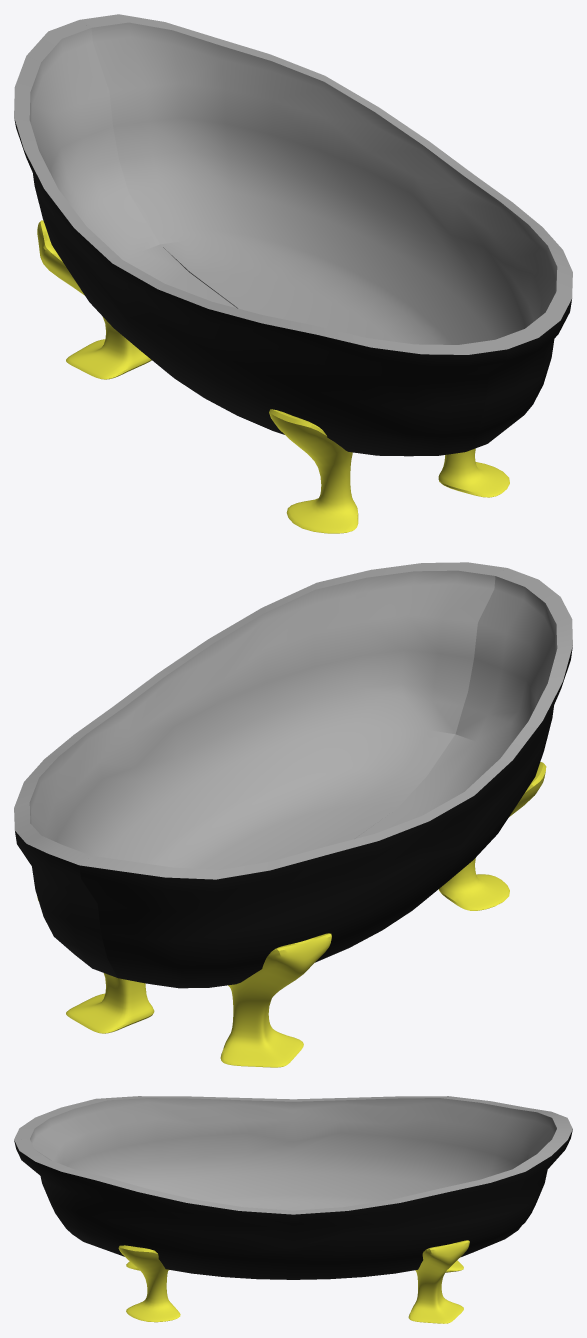
Rendered from Bañera.fbx.
The picture shows the model from 3 angles, top to bottom: view 1: azimuth 30°, elevation 25°; view 2: azimuth 150°, elevation 25°; view 3: azimuth 270°, elevation 25°; orthographic projection. The views are drawn at different scales.
Visible parts, largest first — view 1: Sphere, Cube.001; view 2: Sphere, Cube.001; view 3: Sphere, Cube.001.
Boxes of the visible parts, x1,y1,x2,y2 form: Sphere: (14,14,572,456); Cube.001: (37,220,509,533); Sphere: (14,562,572,988); Cube.001: (37,762,546,1067); Sphere: (14,1096,572,1279); Cube.001: (118,1240,469,1323).
Size of the model in its own units: 743 by 484 by 1522.
